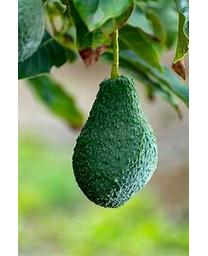avocado: (71, 75, 159, 210)
